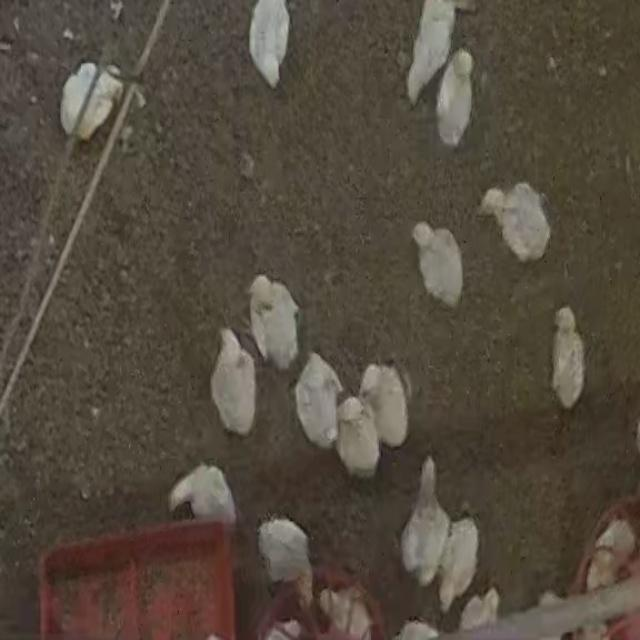chicken: (478, 181, 578, 286), (398, 213, 484, 324), (240, 270, 311, 373), (538, 301, 594, 420), (50, 54, 121, 145), (402, 472, 450, 596), (252, 514, 327, 591), (324, 395, 384, 487), (205, 331, 257, 437), (365, 357, 420, 453), (179, 461, 246, 535), (391, 5, 444, 88), (248, 6, 292, 94), (434, 53, 468, 148), (285, 359, 332, 426), (442, 528, 476, 620), (472, 595, 511, 640)
